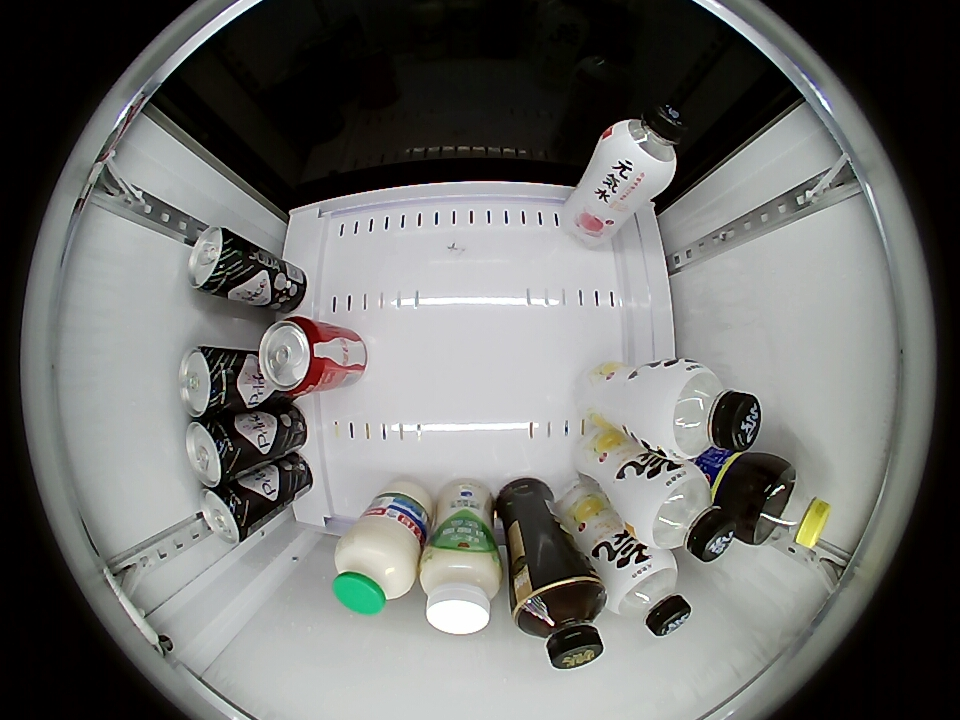baishikele: (748, 464, 832, 550)
kele: (258, 316, 327, 395)
liziyuan: (333, 517, 420, 616)
qingdaowangzi-1: (178, 345, 241, 419), (184, 417, 245, 487), (187, 226, 245, 296), (198, 485, 256, 544)
rancha-1: (512, 575, 607, 670)
yousuanru: (420, 543, 502, 635)
yuanqishui: (646, 360, 762, 461), (627, 463, 737, 563), (596, 101, 687, 193), (603, 549, 692, 636)
